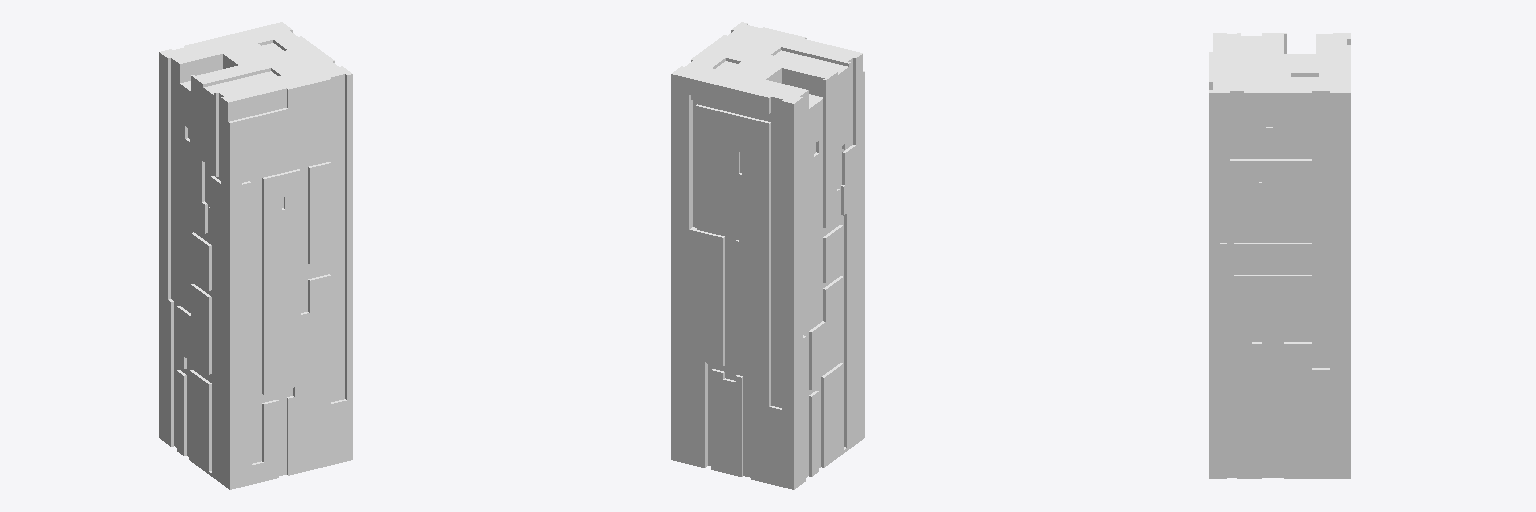
File: DataTower.obj
3 renders of one model, left to right at view 1: azimuth 30°, elevation 25°; view 2: azimuth 150°, elevation 25°; view 3: azimuth 270°, elevation 25°, orthographic.
Visible parts, largest first — view 1: object 1; view 2: object 1; view 3: object 1.
Part boxes in pixels (x1,y1,x2,y2): object 1: (159,22,352,489); object 1: (671,22,864,489); object 1: (1209,33,1350,478).
Bounding box in the file's own units: 4 × 12 × 4.